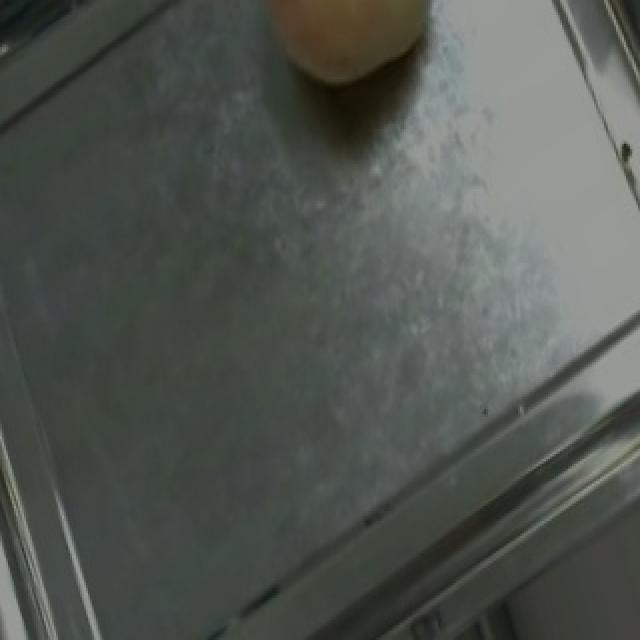Fruit: (220, 0, 464, 122)
